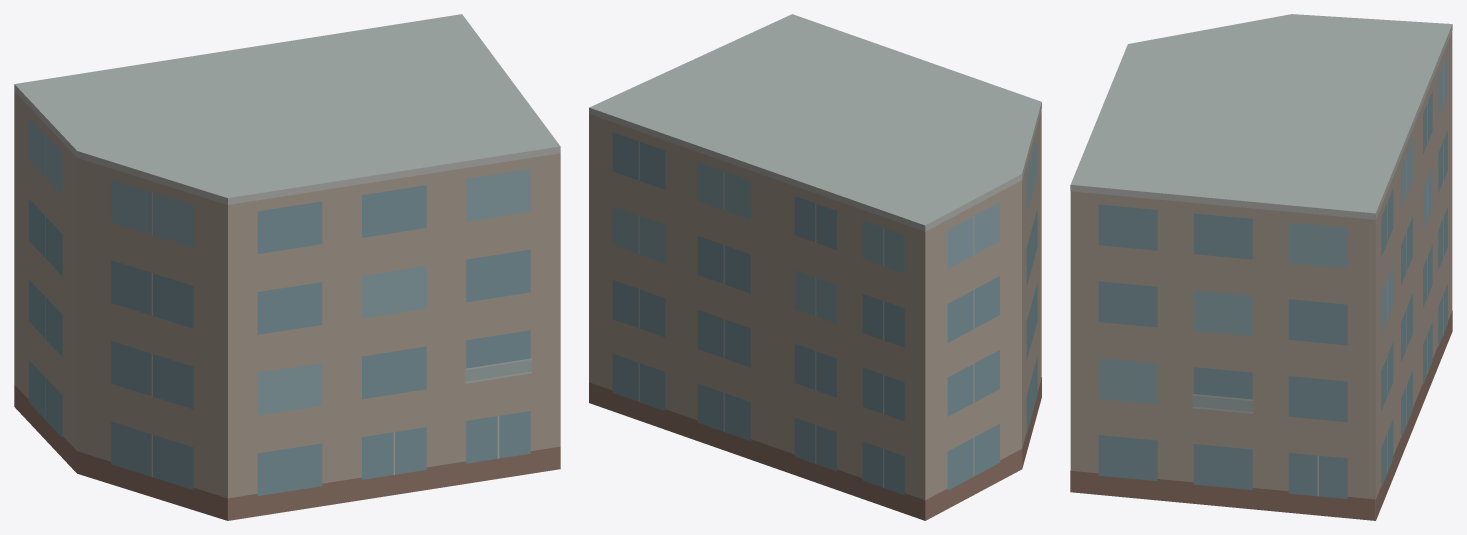
Rendered from survey-upis-32672472.glb.
3 views of the same model, side by side, from view 1: azimuth 30°, elevation 25°; view 2: azimuth 150°, elevation 25°; view 3: azimuth 270°, elevation 25° (orthographic). The views are drawn at different scales.
Parts seen in each view (by area): view 1: survey-upis-32672472.tmp; view 2: survey-upis-32672472.tmp; view 3: survey-upis-32672472.tmp.
Boxes of the visible parts, box(x1,y1,x2,y2) form: survey-upis-32672472.tmp: box(14, 14, 560, 520); survey-upis-32672472.tmp: box(589, 14, 1041, 520); survey-upis-32672472.tmp: box(1070, 14, 1452, 520).
Bounding box in the file's own units: 16.11 × 11.57 × 13.04.
